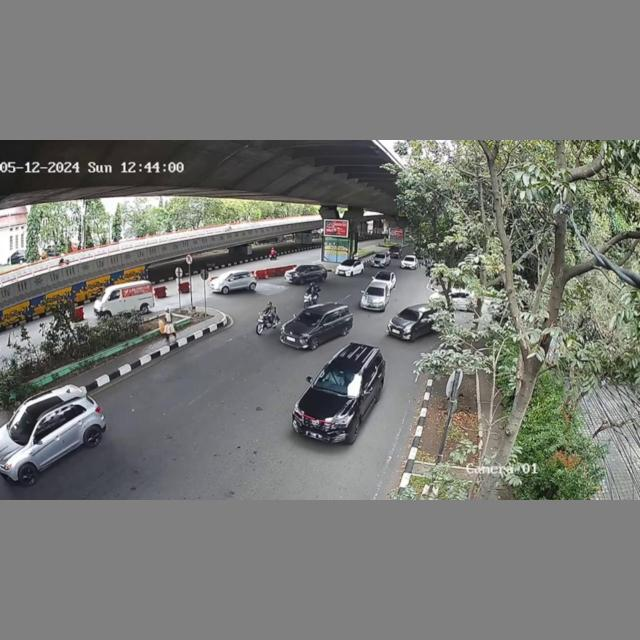windshield: (310, 366, 364, 397), (294, 308, 323, 328)
